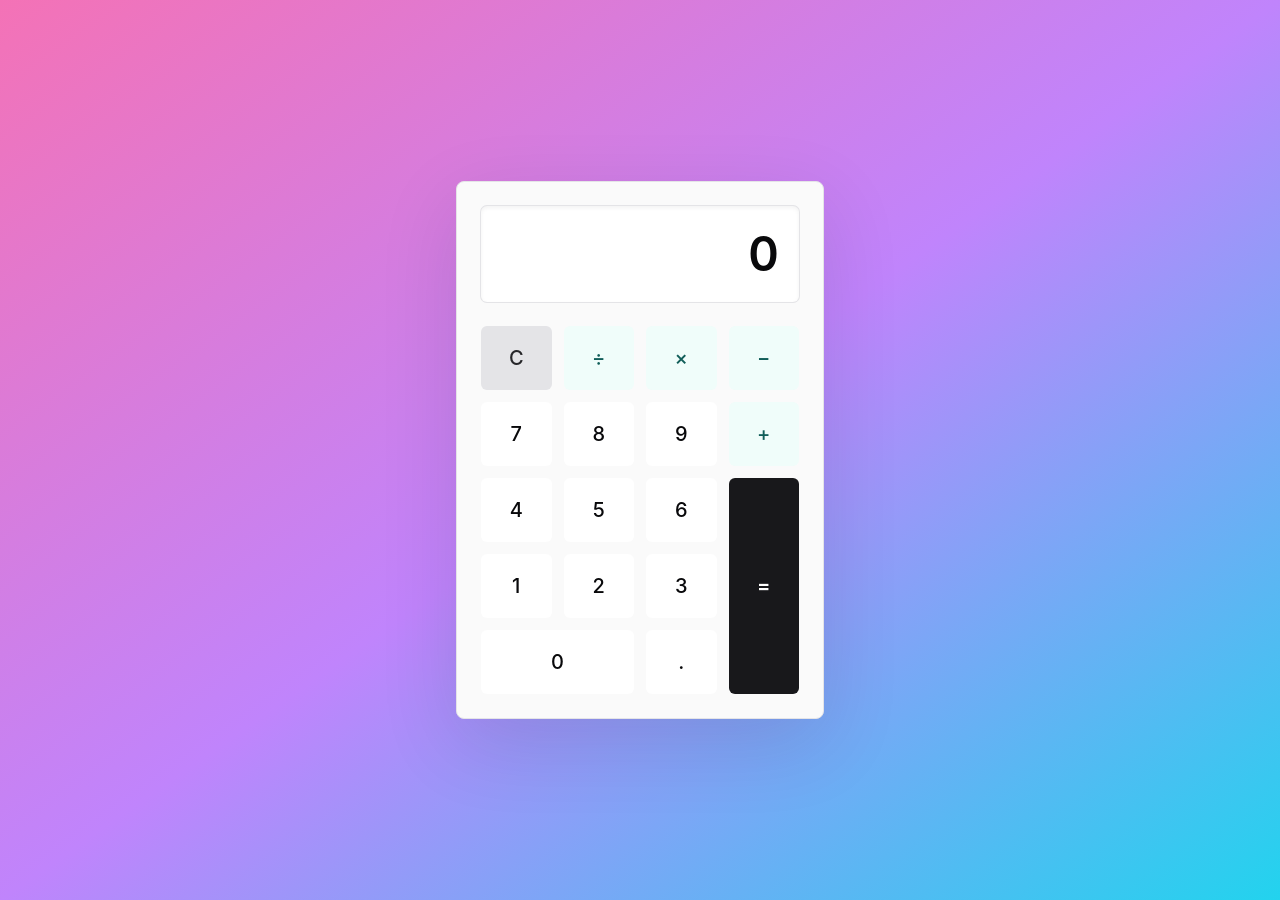
Scenario: App › renders divide-by-zero errors and clears back to zero
Step 1. Click the button "8" → (599, 434), box left=564, top=402, right=634, bottom=466
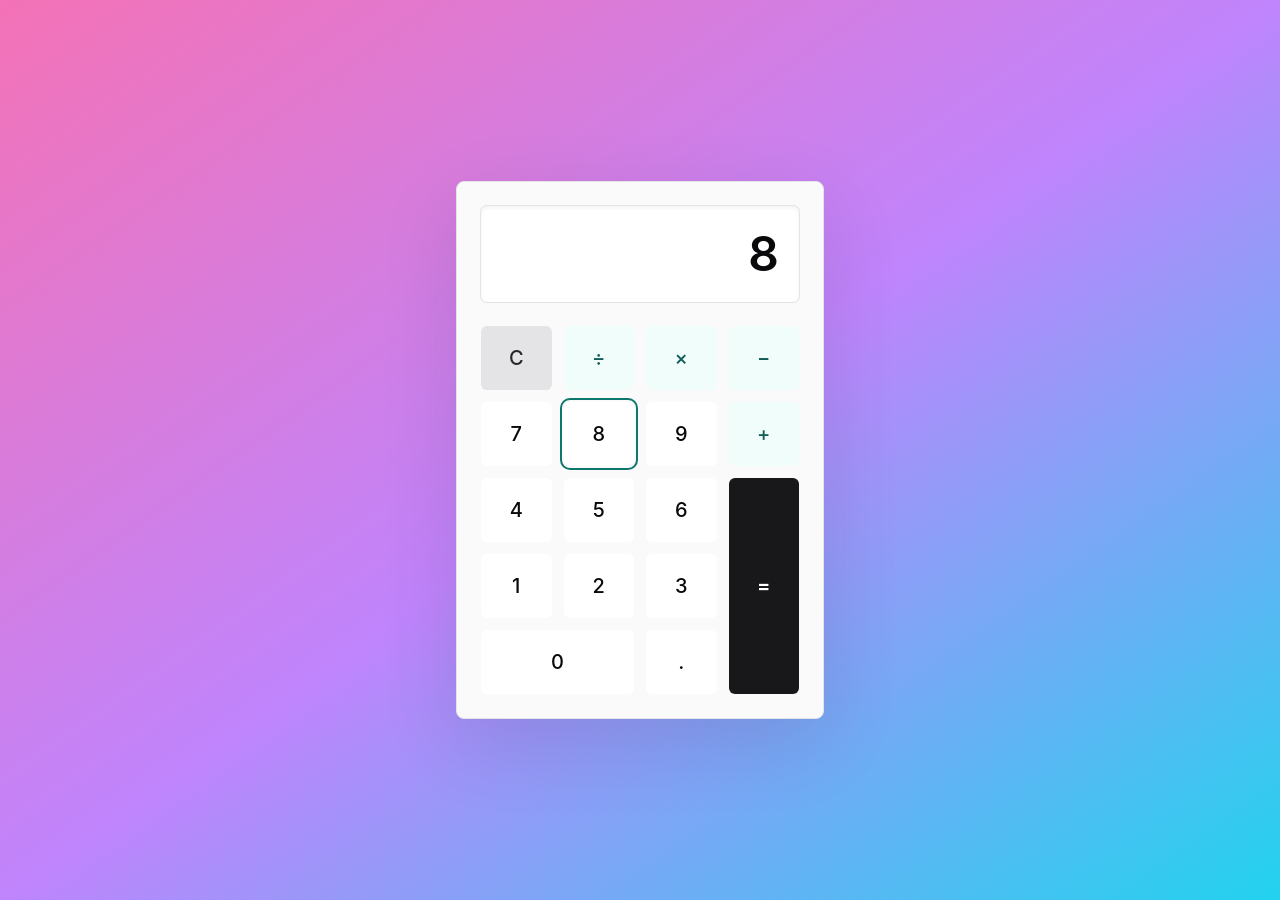
Step 2. Click the button named "Divide" → (599, 358), box left=564, top=326, right=634, bottom=390
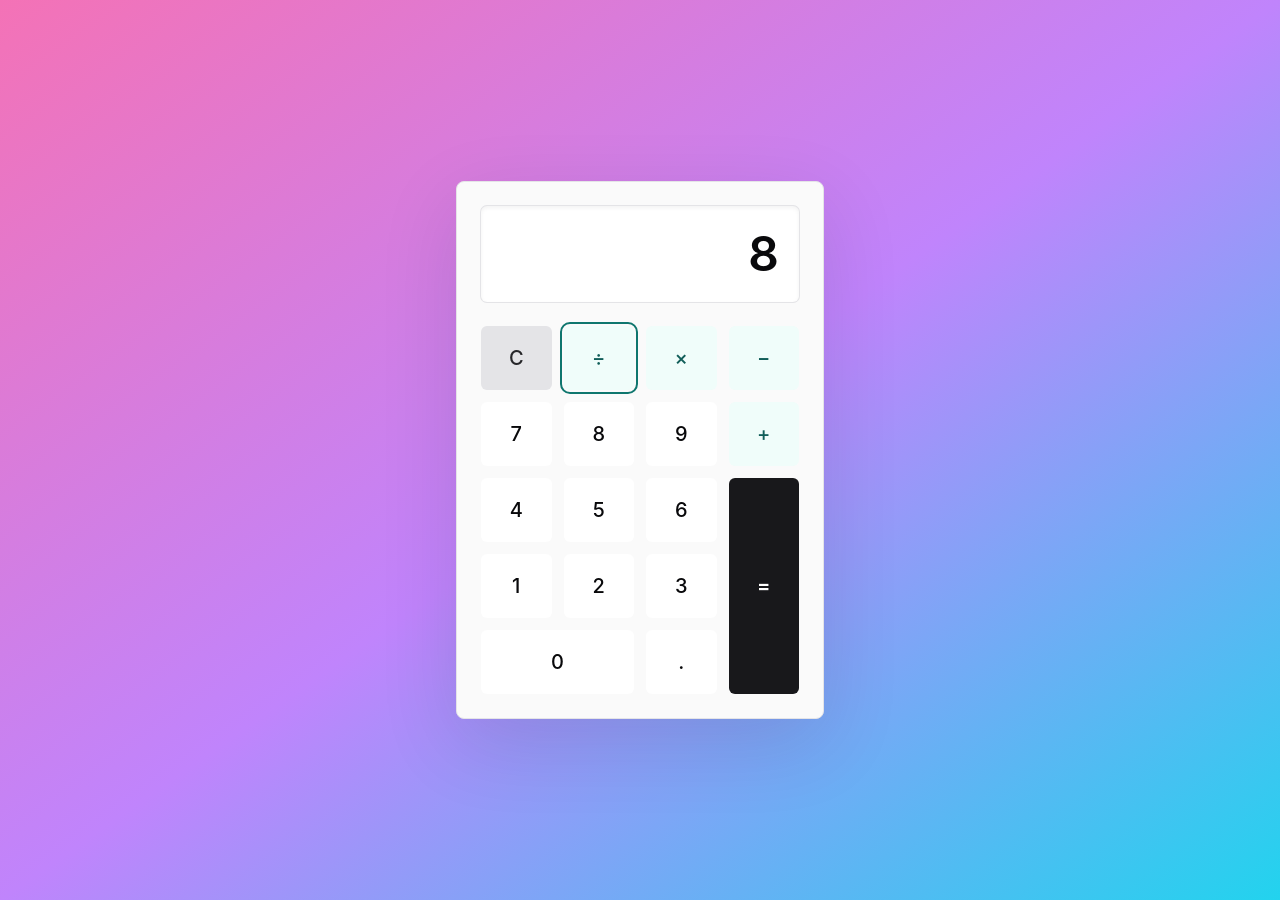
Step 3. Click the button "0" → (558, 662), box left=481, top=630, right=634, bottom=694
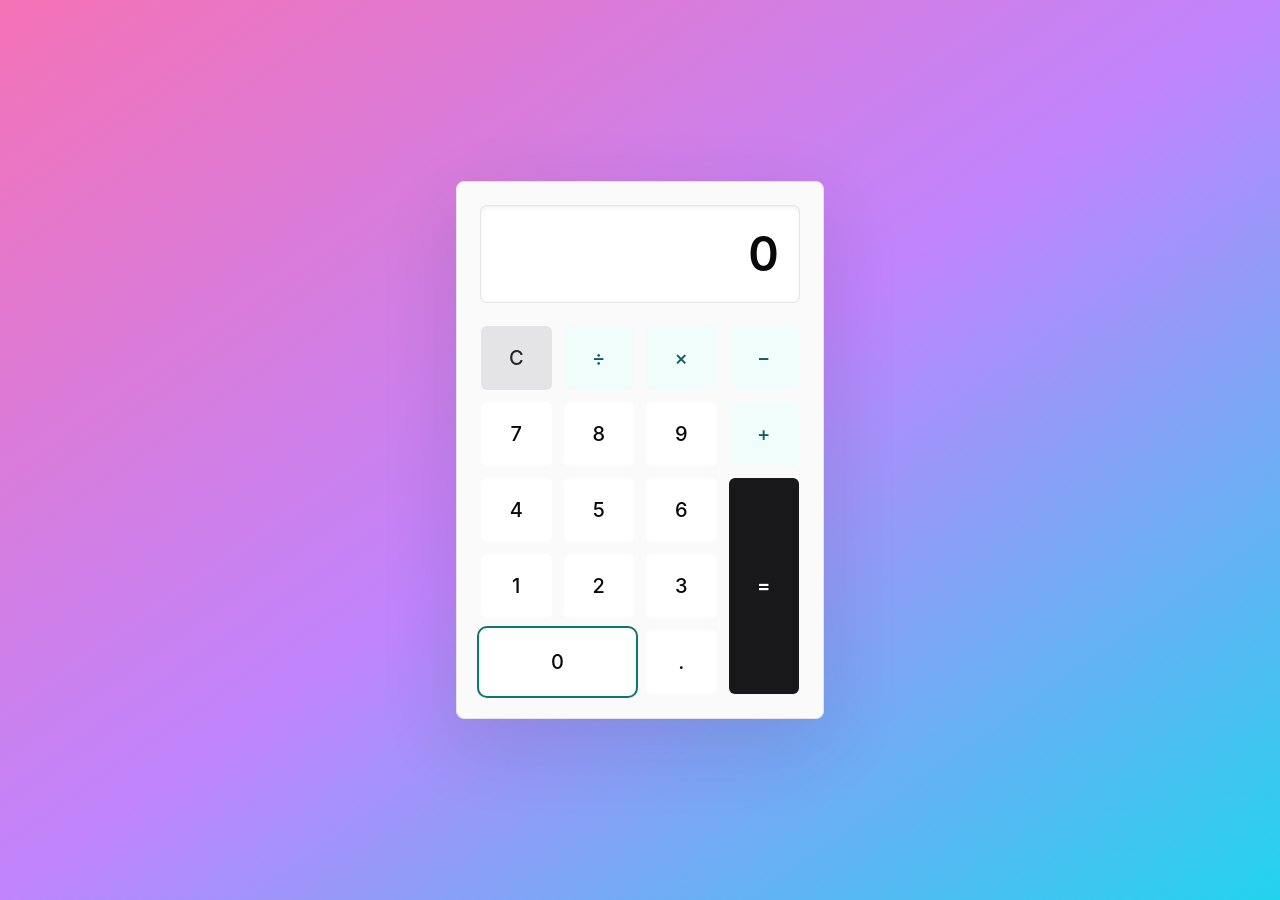
Step 4. Click the button named "Equals" → (764, 586), box left=728, top=478, right=799, bottom=694
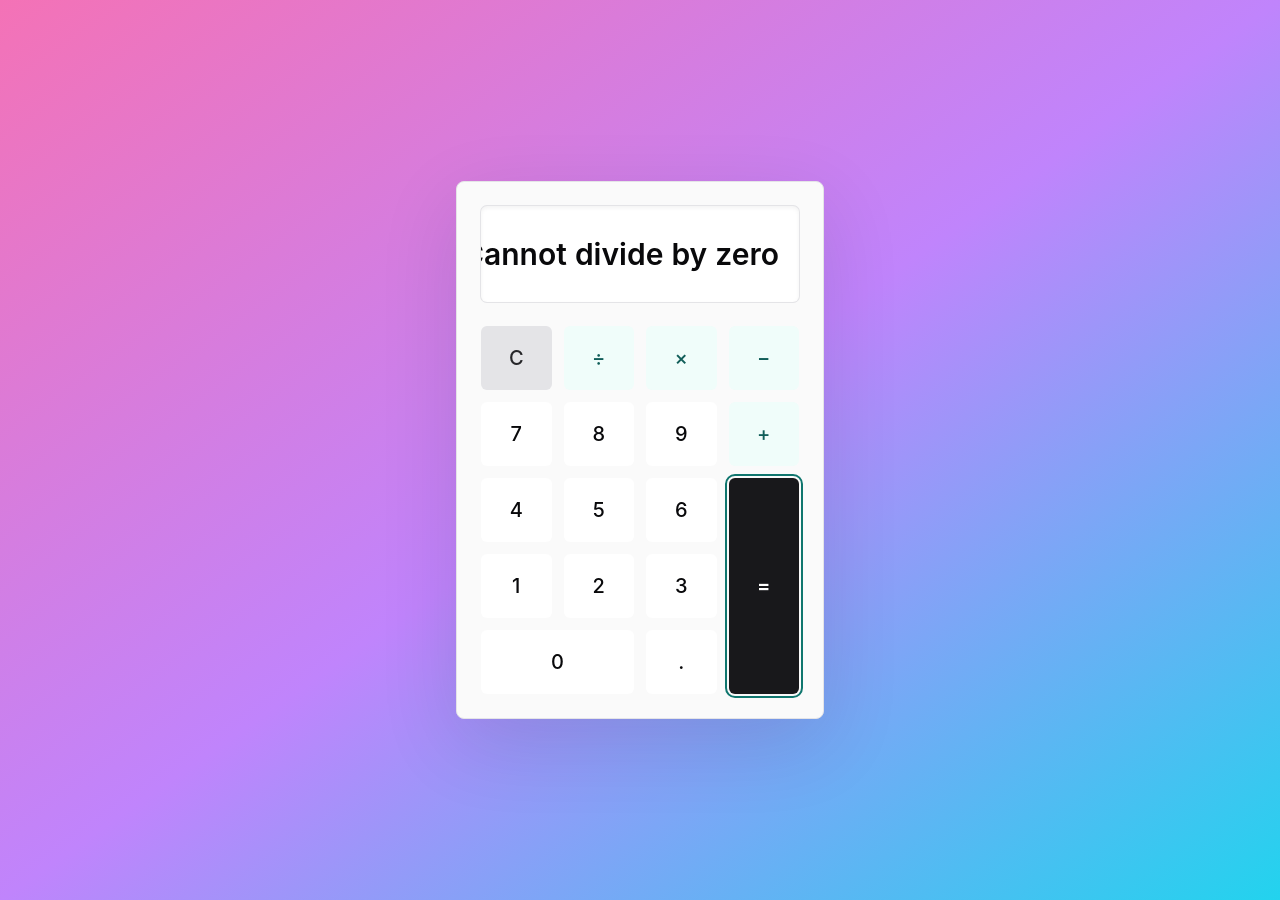
Expected: the text named "Calculator display" reads "Cannot divide by zero", left=462, top=236, right=779, bottom=272
Step 5. Click the button named "Clear" → (516, 358), box left=481, top=326, right=552, bottom=390
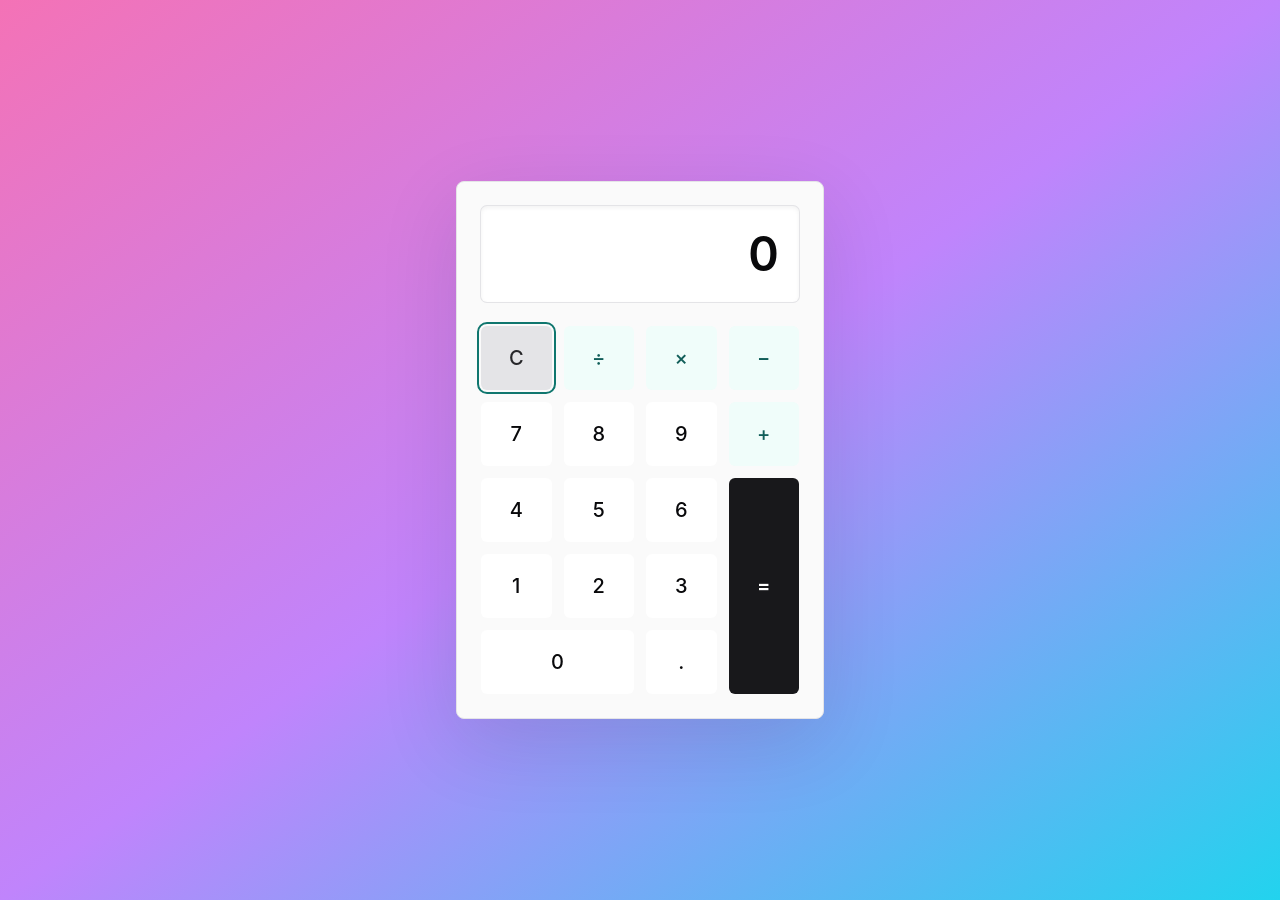
Expected: the text named "Calculator display" reads "0", left=748, top=224, right=779, bottom=283
